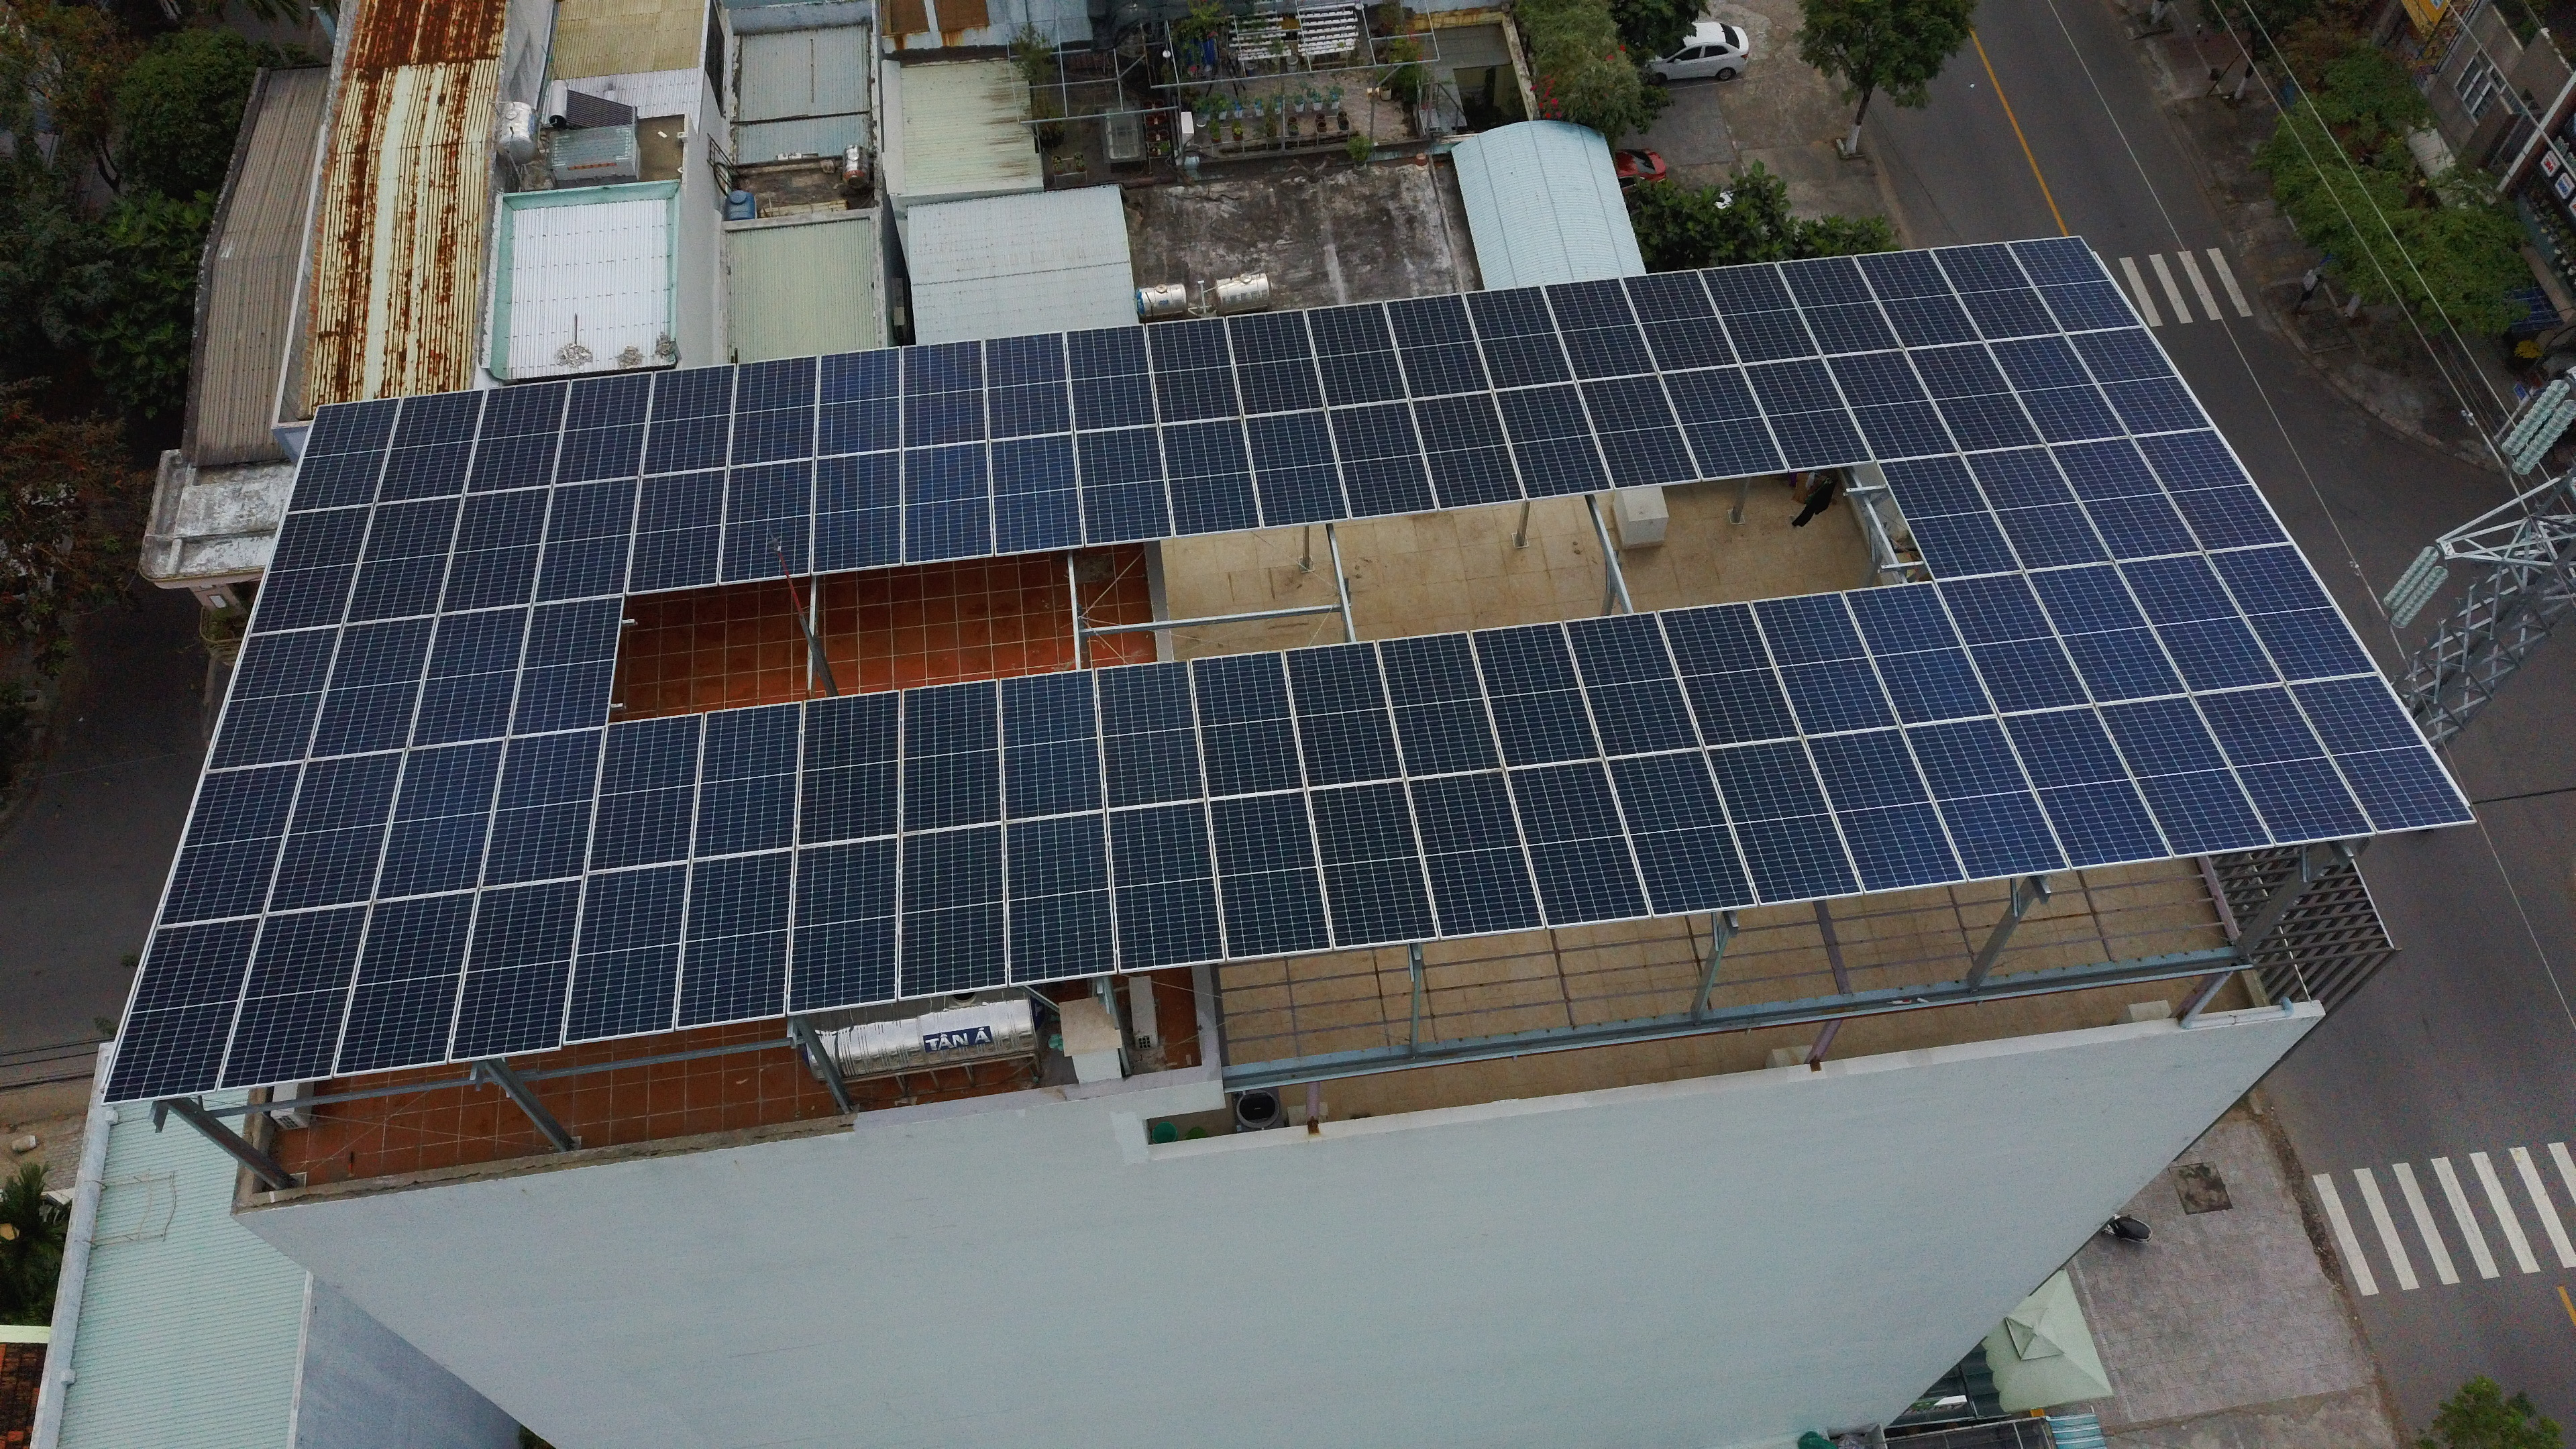solar: (2277, 672, 2477, 835), (2171, 690, 2376, 846), (214, 899, 375, 1093), (2091, 692, 2279, 858), (101, 913, 264, 1102), (327, 885, 483, 1079), (1895, 715, 2072, 885), (1996, 706, 2180, 869), (1589, 741, 1762, 913), (1698, 734, 1865, 911), (1801, 725, 1969, 893), (1499, 755, 1656, 931), (444, 872, 586, 1063), (150, 757, 308, 925), (262, 747, 414, 916), (1932, 568, 2098, 722), (1299, 777, 1444, 952), (2111, 550, 2286, 694), (2201, 545, 2380, 683), (2019, 559, 2190, 702), (561, 860, 694, 1044), (368, 734, 513, 902), (1405, 770, 1548, 939), (1200, 786, 1336, 962), (1651, 596, 1806, 750), (1741, 591, 1902, 738), (1099, 796, 1230, 975), (672, 846, 798, 1030), (472, 725, 610, 892), (1840, 582, 1999, 725), (202, 625, 349, 777), (1562, 612, 1709, 764), (1465, 621, 1612, 771), (1001, 805, 1118, 993), (303, 610, 446, 763), (892, 814, 1008, 998), (582, 709, 706, 879), (787, 830, 901, 1016), (2128, 426, 2293, 554), (1277, 637, 1412, 791), (1875, 449, 2029, 584), (2042, 439, 2206, 564), (1957, 441, 2116, 570), (1090, 655, 1214, 814), (686, 686, 805, 853), (405, 602, 536, 752), (1375, 630, 1506, 780), (1185, 649, 1309, 800), (791, 686, 902, 849), (510, 591, 628, 743), (242, 504, 375, 639), (341, 490, 469, 630), (2059, 326, 2215, 439), (1898, 340, 2049, 455), (1982, 333, 2132, 448), (1000, 669, 1108, 823), (902, 688, 1005, 846), (441, 479, 556, 619), (1821, 349, 1957, 465), (1743, 350, 1874, 471), (1656, 364, 1789, 483), (1573, 373, 1704, 492), (527, 471, 642, 605), (280, 396, 405, 517), (1490, 380, 1615, 501), (1407, 386, 1530, 506), (373, 387, 492, 510), (1617, 264, 1741, 380), (1851, 248, 1987, 354), (2003, 234, 2146, 334), (460, 377, 575, 501), (1238, 405, 1352, 531), (1537, 271, 1660, 386), (1928, 239, 2063, 343), (715, 455, 819, 589), (1775, 251, 1905, 357), (626, 455, 732, 584), (548, 368, 662, 488), (1697, 262, 1821, 372), (1069, 425, 1177, 550), (1325, 396, 1437, 517), (1157, 416, 1265, 540), (1382, 290, 1499, 403), (1461, 280, 1576, 393), (809, 444, 906, 577), (1143, 311, 1247, 430), (1223, 306, 1327, 425), (985, 433, 1085, 557), (1306, 299, 1408, 418), (637, 359, 741, 474), (902, 430, 996, 556), (980, 331, 1079, 442), (1062, 324, 1161, 435), (727, 356, 819, 474), (814, 345, 908, 460), (901, 340, 991, 449)
